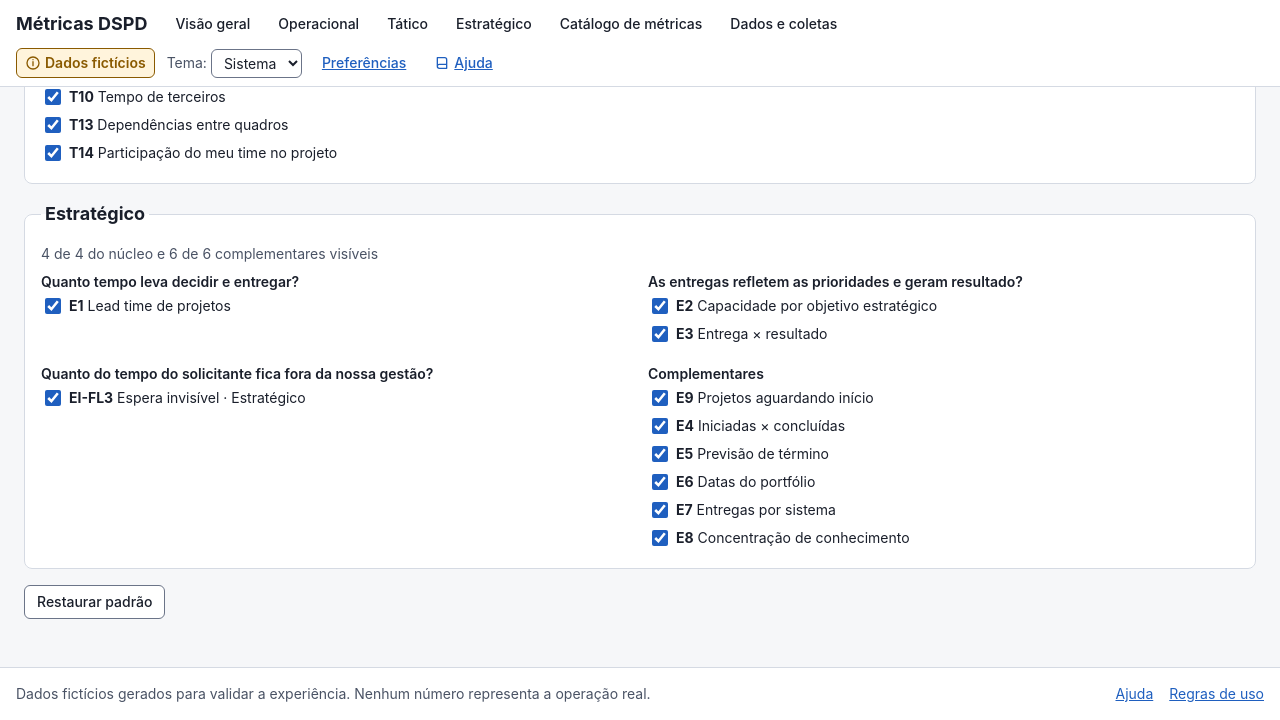
perfil /preferencias › com uma só métrica oculta, a confirmação fala no singular
The width and height of the screenshot is (1280, 720).
(page scrolled)
Step 1. Click the button "Restaurar padrão" → (95, 602), box x1=24 y1=585 x2=166 y2=619
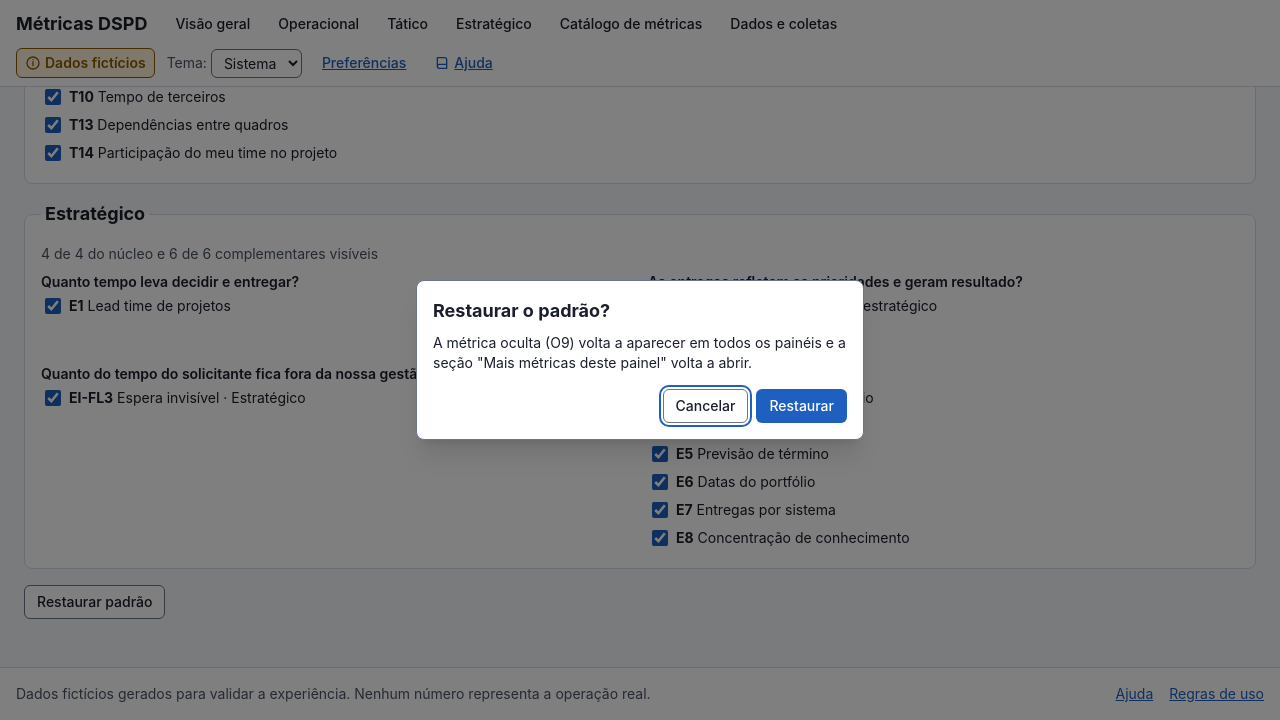
Check: the dialog shows "A métrica oculta (O9) volta a aparecer", box x1=416 y1=280 x2=864 y2=440
